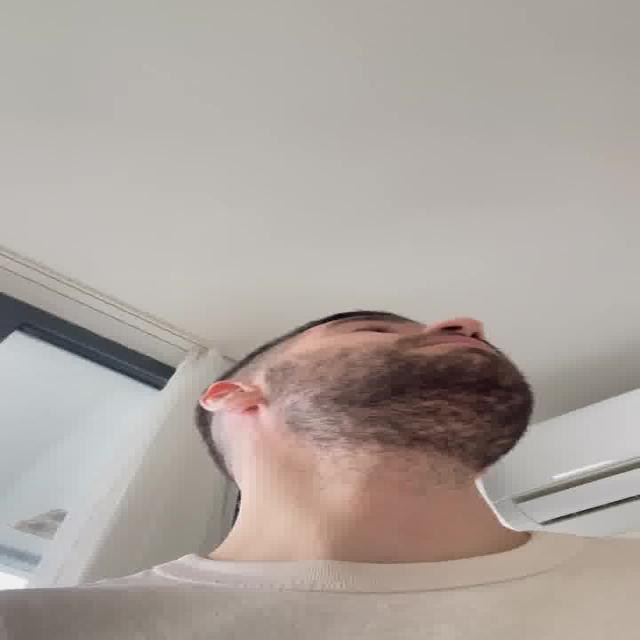earlobe: (224, 392, 257, 413)
eye: (341, 324, 404, 336)
nose: (433, 326, 488, 340)
wholeear: (198, 381, 258, 414)
